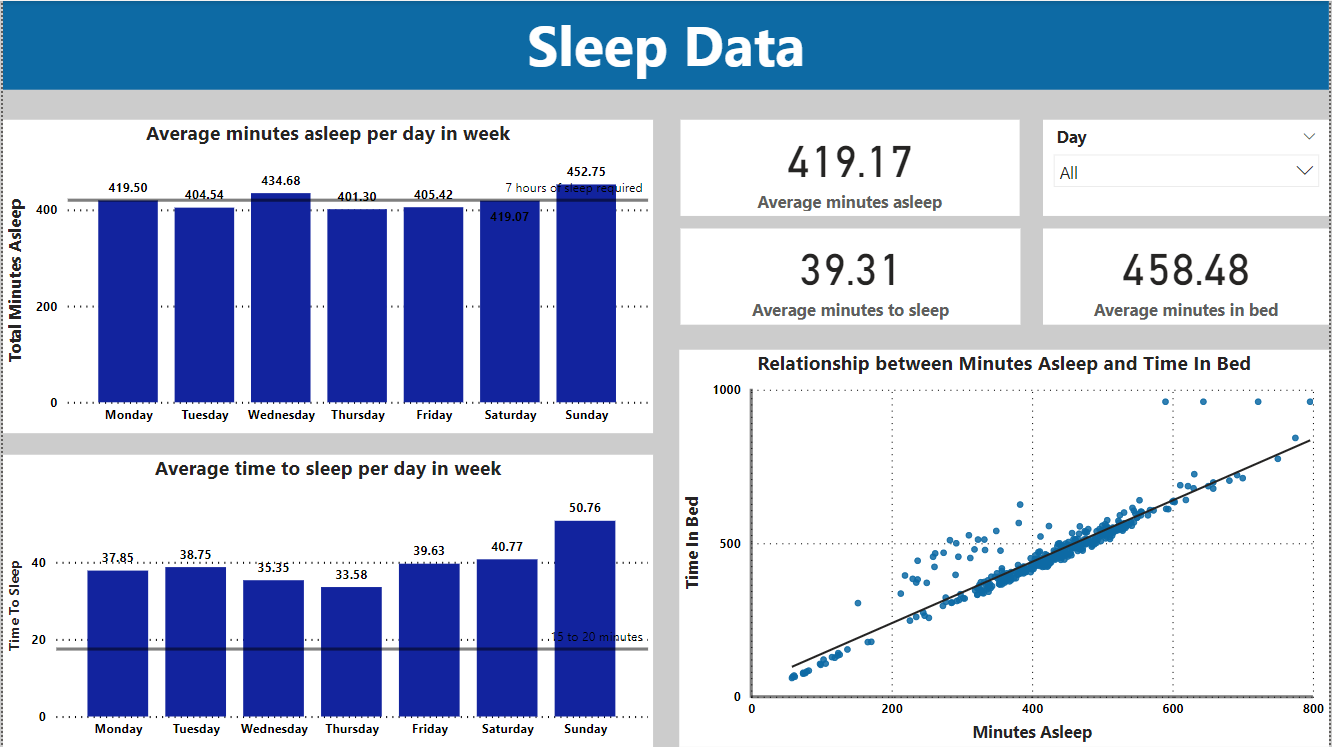

What the dashboard file says about the page in this screenshot:
{"tool":"powerbi","page":{"name":"Sleep Data","canvas":[1280,720],"ordinal":4},"visuals":[{"type":"scatterChart","title":"Relationship between Minutes Asleep and Time In Bed","fields":{"X":["daily_sleep.TotalMinutesAsleep"],"Y":["daily_sleep.TotalTimeInBed"]},"box":[652.5,336.5,627.1,383.5],"z":0},{"type":"card","fields":{"Values":["Avg(daily_sleep.TotalMinutesAsleep)"]},"box":[653.7,114.6,326.8,92.9],"z":1000},{"type":"card","fields":{"Values":["Avg(daily_sleep.TotalTimeInBed)"]},"box":[1003.4,219.5,276.2,92.9],"z":2000},{"type":"clusteredColumnChart","title":"Average minutes asleep per day in week","fields":{"Category":["daily_sleep.Day of Week Name"],"Y":["Avg(daily_sleep.TotalMinutesAsleep)"]},"box":[0,114.6,627.1,302.7],"z":3000},{"type":"clusteredColumnChart","title":"Average time to sleep per day in week","fields":{"Y":["Avg(daily_sleep.TimeToSleep)"],"Category":["daily_sleep.Day of Week Name"]},"box":[0,437.8,627.1,282.2],"z":4000},{"type":"slicer","fields":{"Values":["daily_sleep.Day of Week Name"]},"box":[1003.4,114.6,276.2,92.9],"z":5000},{"type":"card","fields":{"Values":["Avg(daily_sleep.TimeToSleep)"]},"box":[653.7,219.5,328,92.9],"z":6000},{"type":"textbox","box":[0,0,1279.6,85.6],"z":7000}]}

Visuals, with their boxes in screenshot pixels (x1, y1, x2, y2), scaled from the page's 1280x720 canvas onto the 1332x747 screenshot:
"Relationship between Minutes Asleep and Time In Bed" scatterChart: 679, 349, 1331, 746
card - Avg(daily_sleep.TotalMinutesAsleep): 680, 119, 1020, 215
card - Avg(daily_sleep.TotalTimeInBed): 1044, 228, 1331, 324
"Average minutes asleep per day in week" clusteredColumnChart: 0, 119, 653, 433
"Average time to sleep per day in week" clusteredColumnChart: 0, 454, 653, 746
slicer - daily_sleep.Day of Week Name: 1044, 119, 1331, 215
card - Avg(daily_sleep.TimeToSleep): 680, 228, 1022, 324
textbox: 0, 0, 1331, 89
